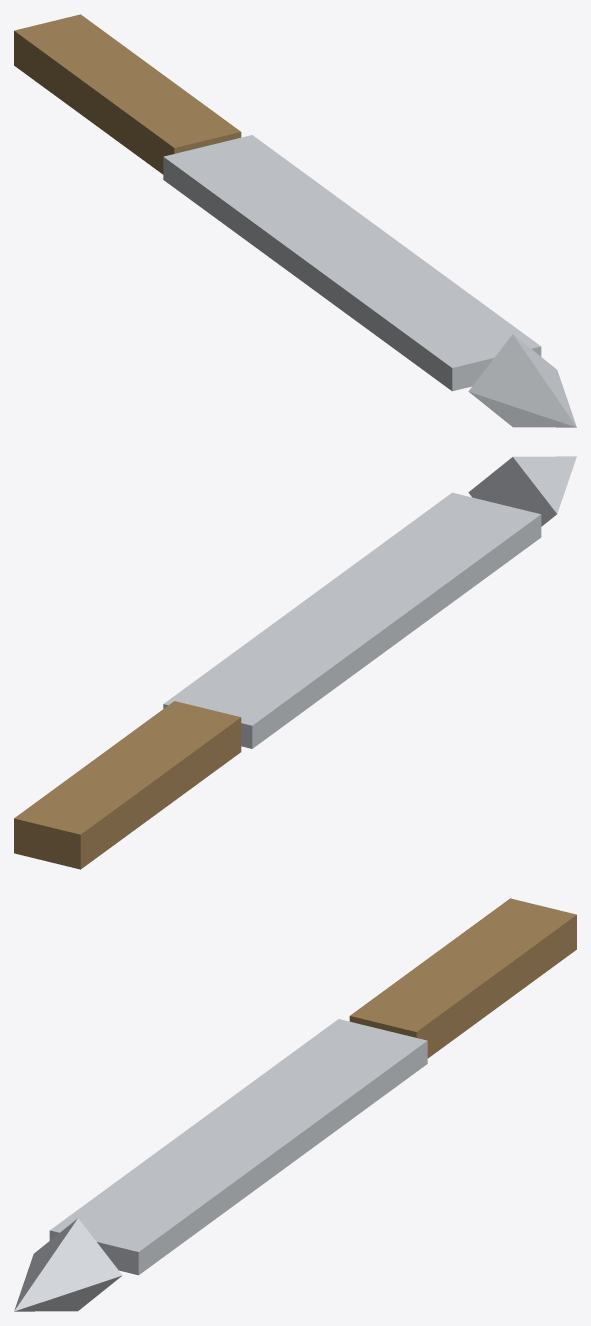
The model's file is knife.glb.
The picture shows the model from 3 angles, top to bottom: view 1: azimuth 30°, elevation 25°; view 2: azimuth 150°, elevation 25°; view 3: azimuth 330°, elevation 25°; orthographic projection.
Visible parts, largest first — view 1: Blade, Handle, BladeTip; view 2: Blade, Handle, BladeTip; view 3: Blade, Handle, BladeTip.
Boxes of the visible parts, <box> form: Blade: <box>163,135,541,391</box>; Handle: <box>14,14,241,174</box>; BladeTip: <box>468,334,576,427</box>; Blade: <box>163,492,541,748</box>; Handle: <box>14,701,241,869</box>; BladeTip: <box>468,456,576,526</box>; Blade: <box>49,1019,427,1275</box>; Handle: <box>349,898,576,1058</box>; BladeTip: <box>14,1218,122,1311</box>.
Size of the model in its own units: 0.16 by 0.16 by 1.65.
